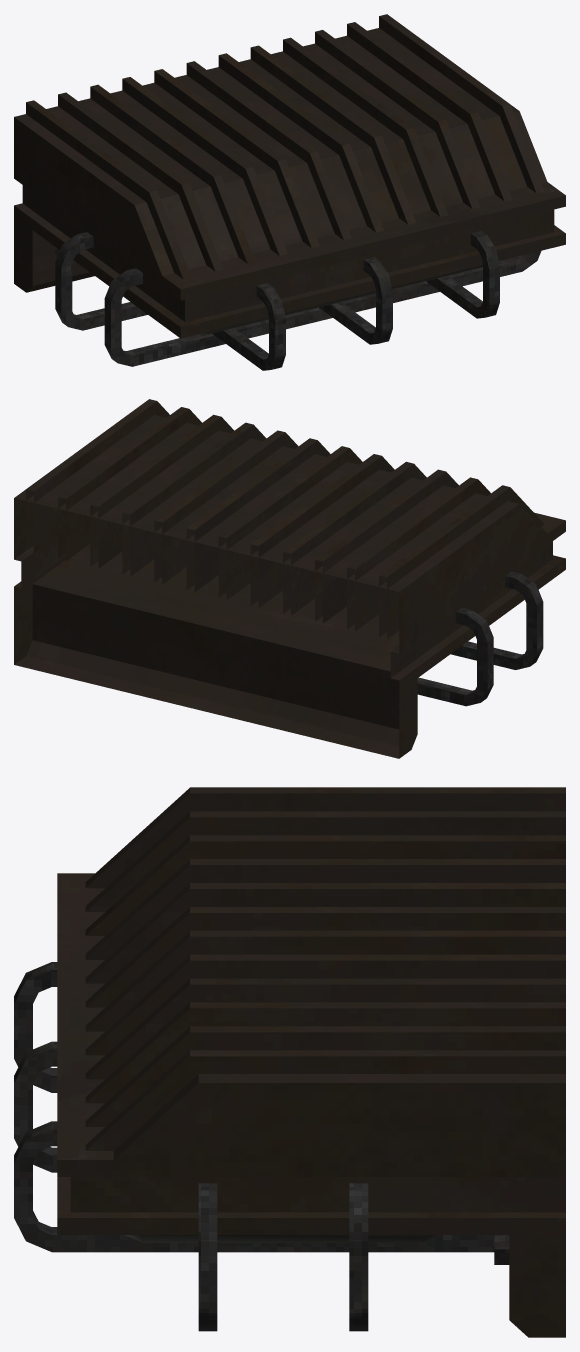
File: lamp_5_off.glb
3 renders of one model, top to bottom at view 1: azimuth 30°, elevation 25°; view 2: azimuth 150°, elevation 25°; view 3: azimuth 270°, elevation 25°, orthographic. The views are drawn at different scales.
Parts seen in each view (by area): view 1: lamp_5_off, lamp_5_off_protector; view 2: lamp_5_off, lamp_5_off_protector; view 3: lamp_5_off, lamp_5_off_protector.
Part boxes in pixels (x1=…): lamp_5_off: x1=14, y1=14, x2=565, y2=338; lamp_5_off_protector: x1=55, y1=231, x2=541, y2=370; lamp_5_off: x1=14, y1=399, x2=565, y2=758; lamp_5_off_protector: x1=417, y1=571, x2=543, y2=706; lamp_5_off: x1=57, y1=787, x2=565, y2=1337; lamp_5_off_protector: x1=14, y1=962, x2=494, y2=1331.
Size of the model in its own units: 0.405 by 0.1595 by 0.293.
3 materials, 3 textured.
